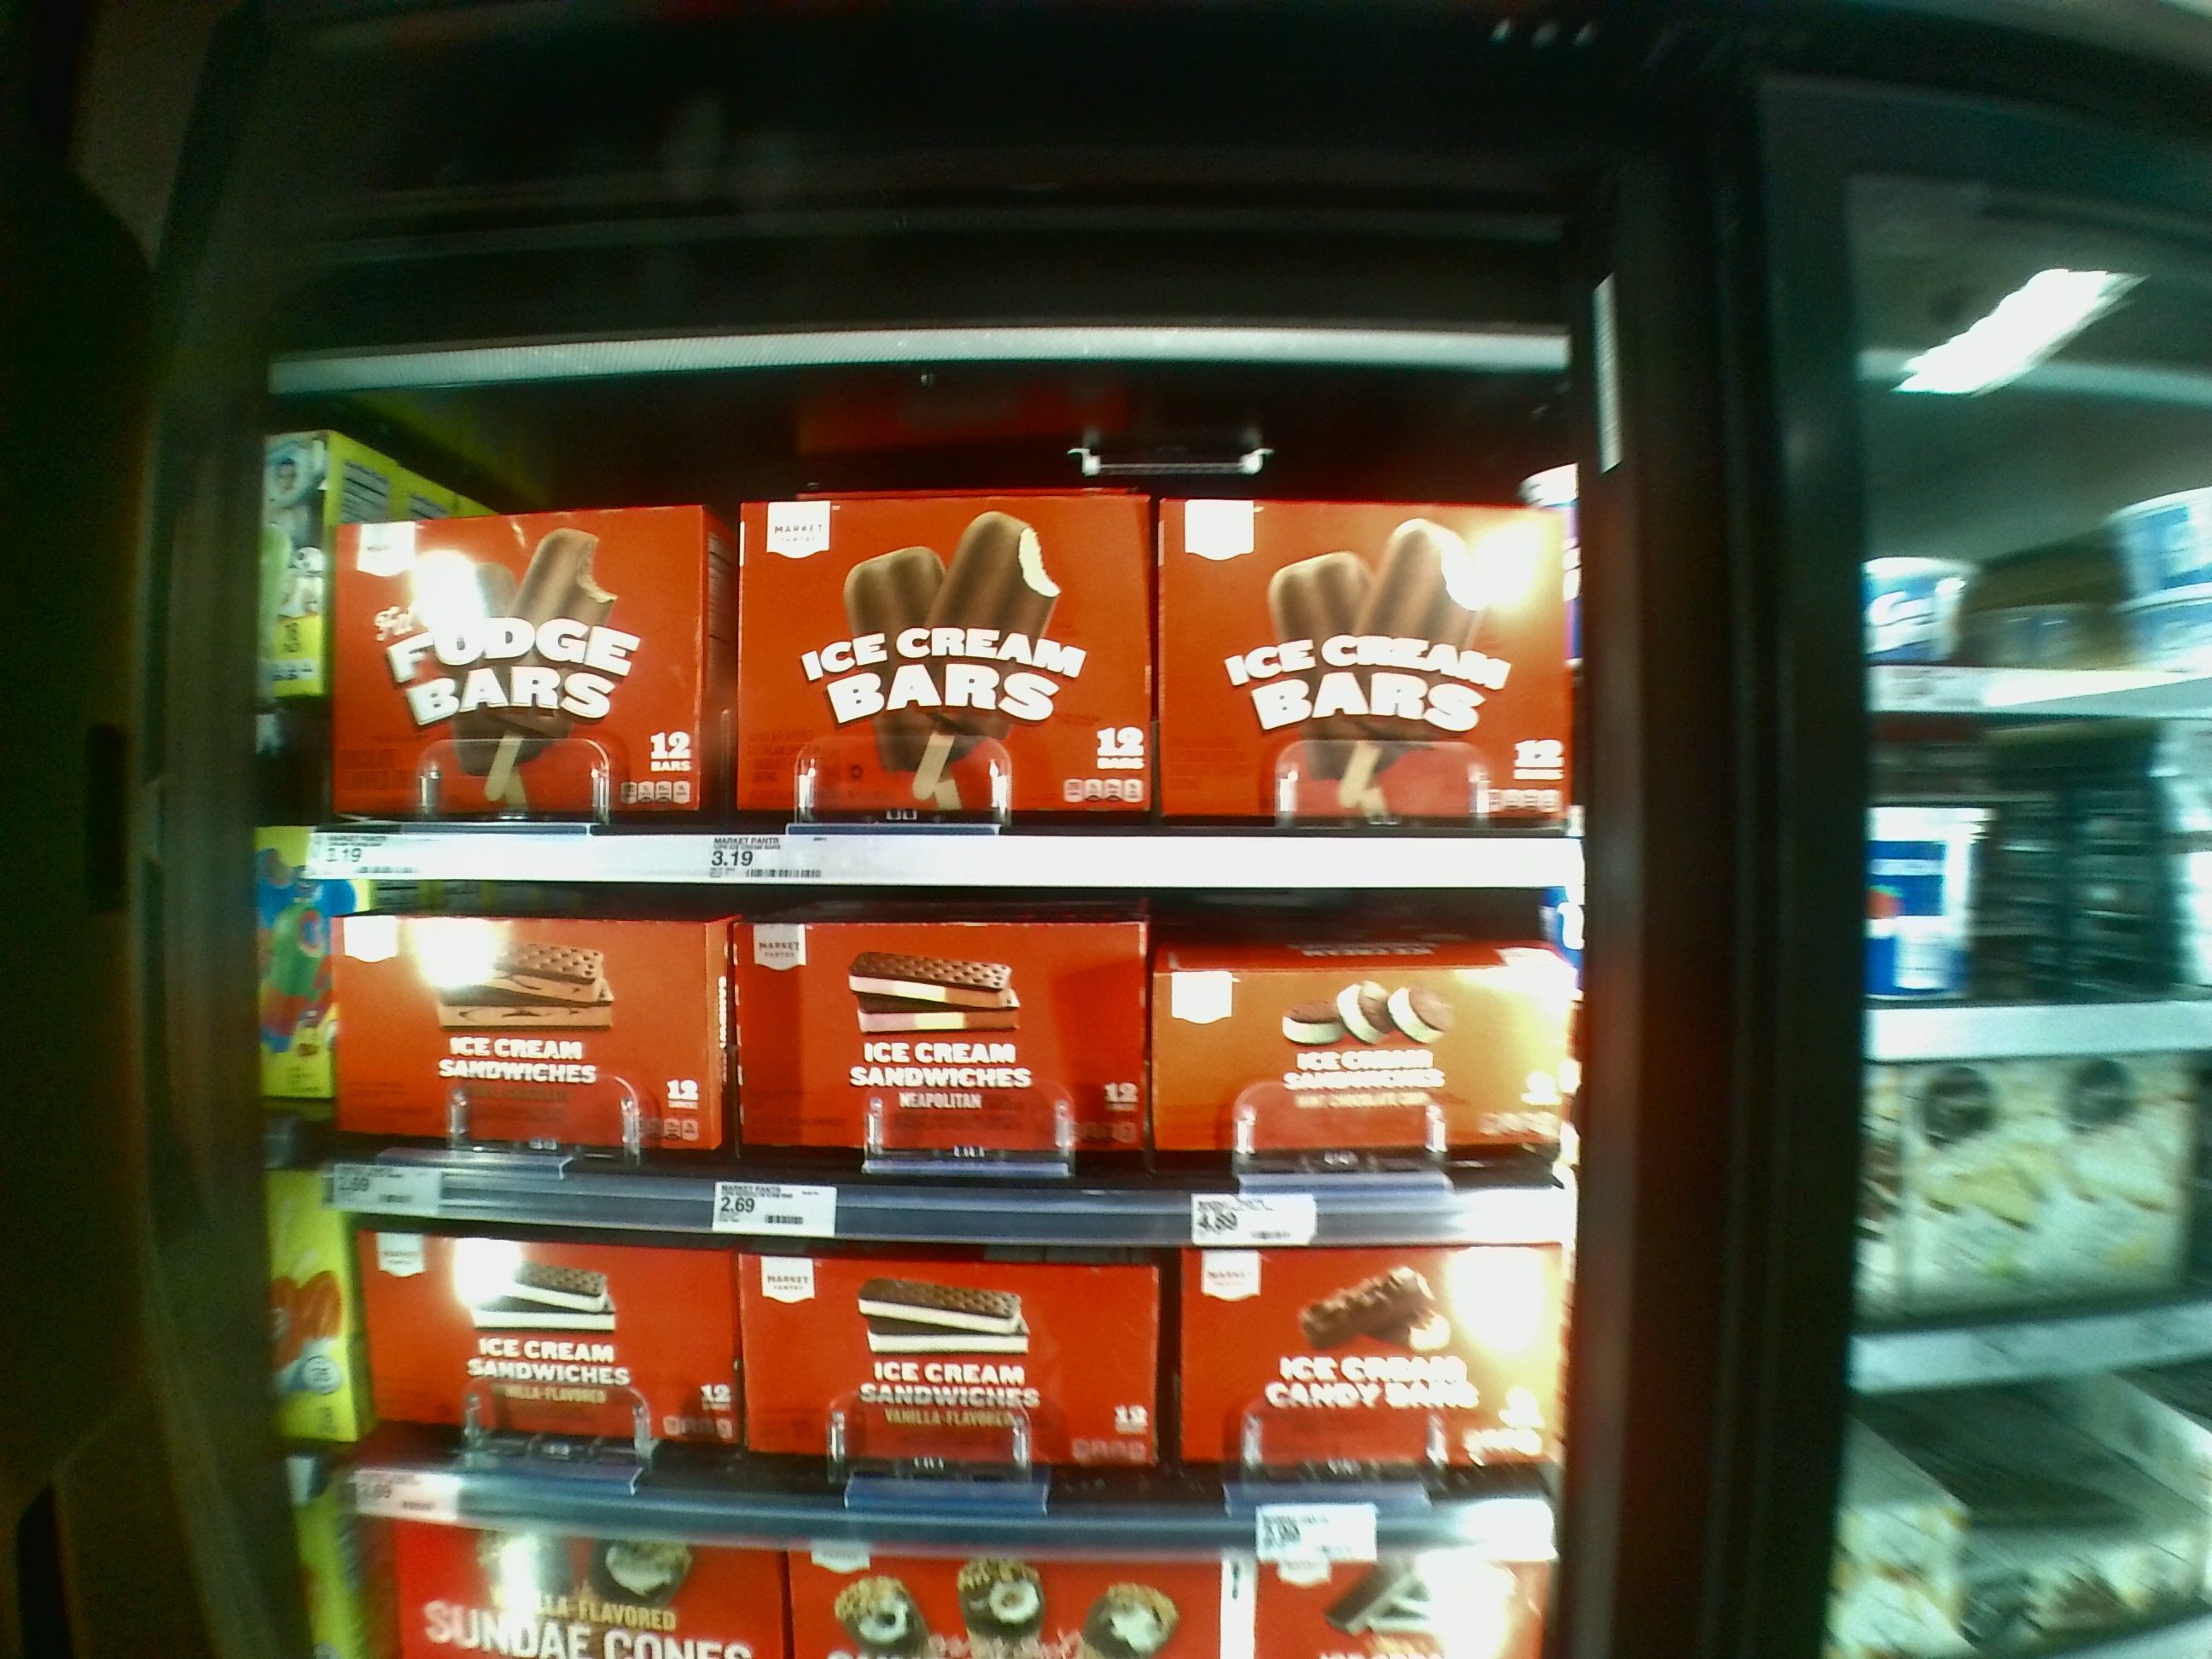shelf: (331, 387, 1569, 885), (326, 877, 1573, 1256), (354, 1225, 1555, 1558)
